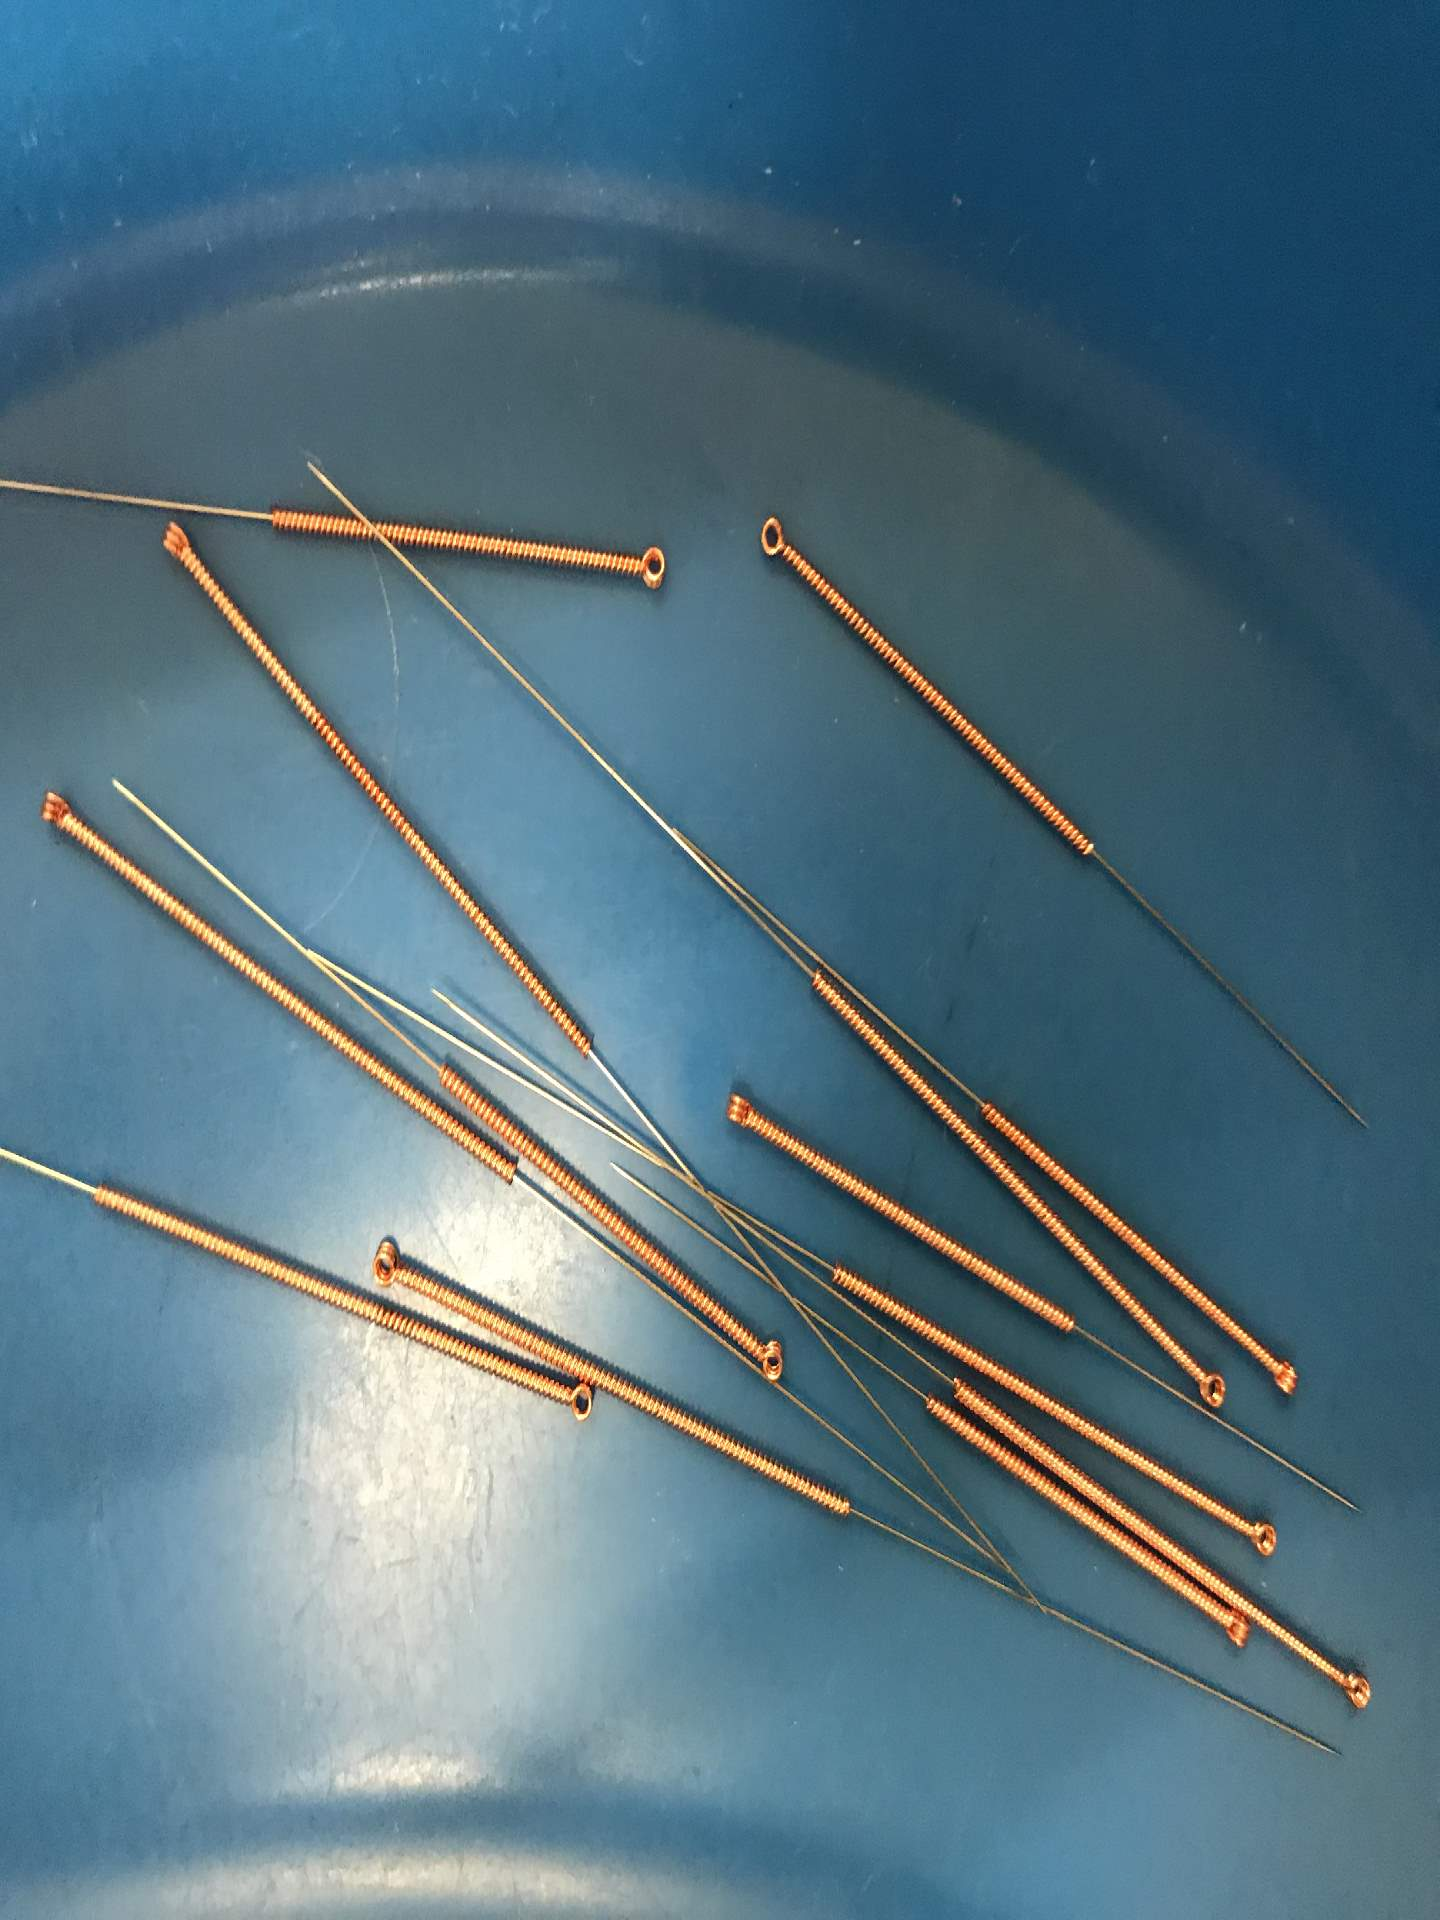needle: (604, 528, 687, 606), (743, 500, 811, 578), (145, 509, 210, 582), (23, 773, 88, 842), (1322, 1655, 1384, 1723), (357, 1231, 416, 1299), (712, 1078, 771, 1146), (1252, 1344, 1314, 1407), (735, 1330, 797, 1389), (1181, 1358, 1237, 1418), (542, 1376, 597, 1432), (1236, 1509, 1286, 1568), (1199, 1609, 1255, 1658)
